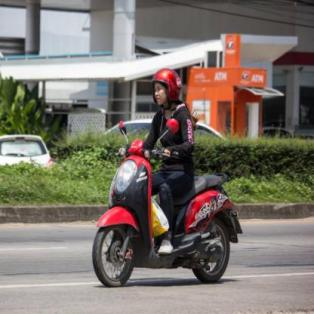Motocicleta: (87, 119, 242, 288)
